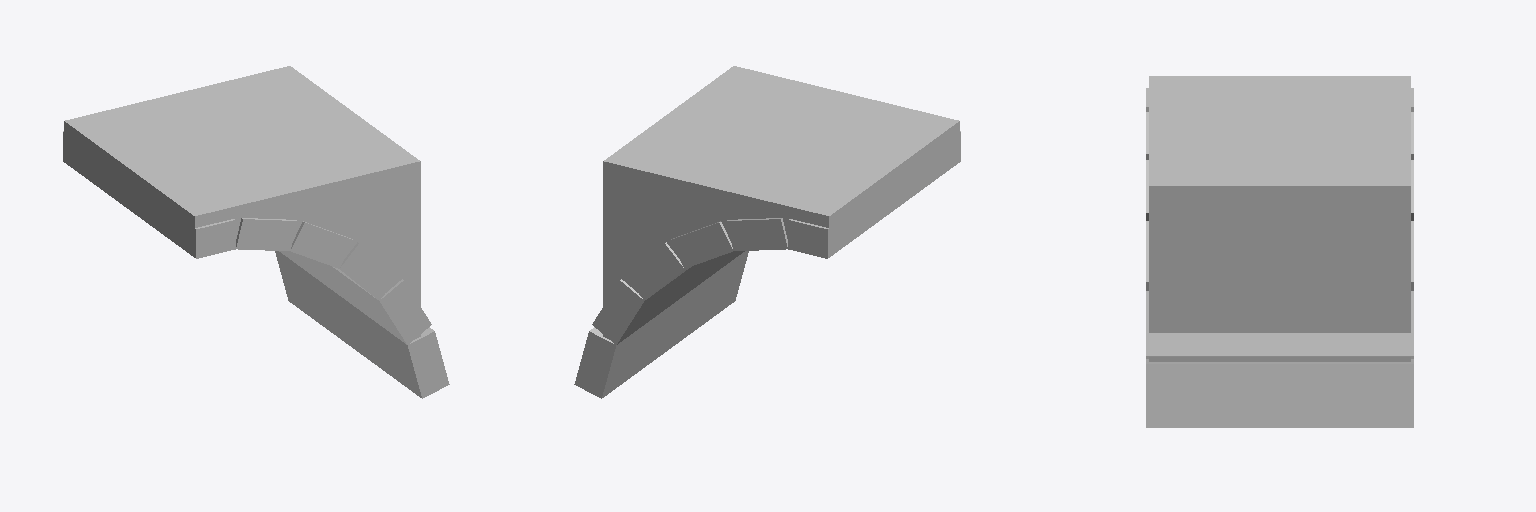
The model's file is lapis_double_arch.obj.
3 views of the same model, side by side, from view 1: azimuth 30°, elevation 25°; view 2: azimuth 150°, elevation 25°; view 3: azimuth 270°, elevation 25° (orthographic).
Parts seen in each view (by area): view 1: double_arch__lapis; view 2: double_arch__lapis; view 3: double_arch__lapis.
Part boxes in pixels (left/top/right/bottom): double_arch__lapis: left=63, top=66, right=449, bottom=398; double_arch__lapis: left=574, top=66, right=960, bottom=398; double_arch__lapis: left=1146, top=76, right=1413, bottom=427.
Size of the model in its own units: 1.12 by 1 by 1.02.